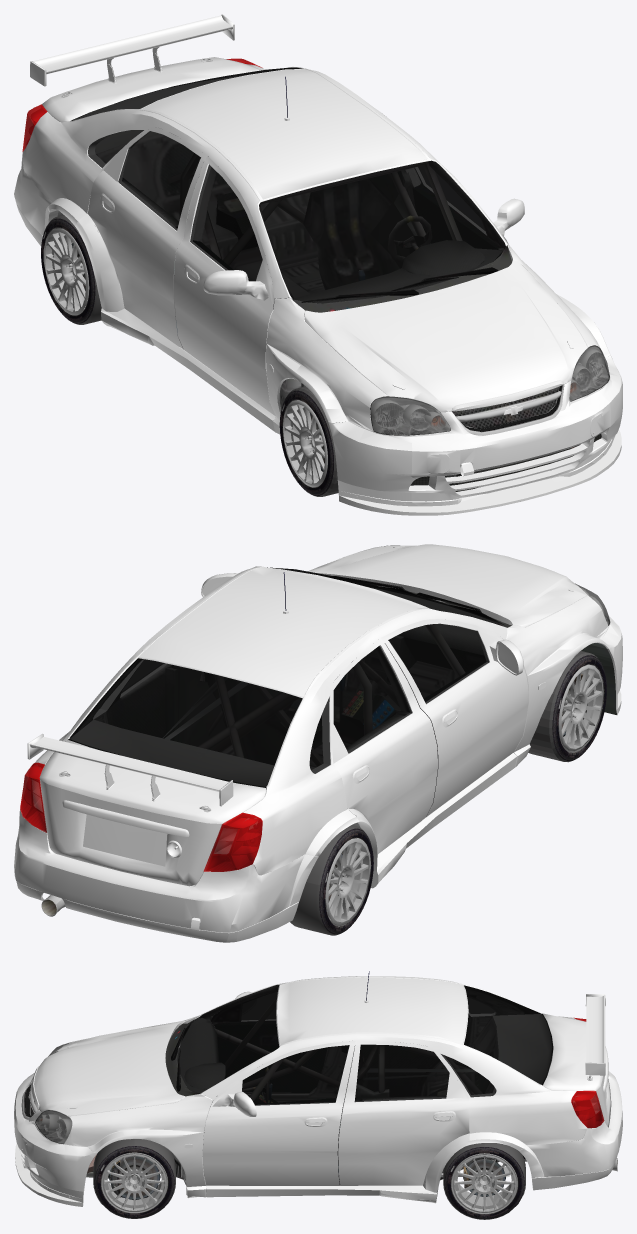
Rendered from lacetti_lod.glb.
3 renders of one model, top to bottom at view 1: azimuth 30°, elevation 25°; view 2: azimuth 150°, elevation 25°; view 3: azimuth 270°, elevation 25°, orthographic. The views are drawn at different scales.
Visible parts, largest first — view 1: obj85_Material6_0, obj89_Material4_0, obj91_Material 585_0, obj144_Material5_0, obj98_Material 593_0, obj86_Material7_0, obj157_Material14_0, obj152_Sidewall_0, obj105_Material11_0, obj107_chrome_0, obj153_Tread_0; view 2: obj85_Material6_0, obj89_Material4_0, obj91_Material 585_0, obj98_Material 593_0, obj144_Material5_0, obj156_Material8_0, obj86_Material7_0, obj153_Tread_0, obj152_Sidewall_0; view 3: obj85_Material6_0, obj89_Material4_0, obj91_Material 585_0, obj144_Material5_0, obj98_Material 593_0, obj152_Sidewall_0, obj86_Material7_0, obj153_Tread_0, obj105_Material11_0, obj157_Material14_0, obj156_Material8_0.
Boxes of the visible parts, x1,y1,x2,y2 form: obj85_Material6_0: [14, 14, 622, 515]; obj89_Material4_0: [72, 67, 505, 303]; obj91_Material 585_0: [96, 68, 505, 349]; obj144_Material5_0: [43, 228, 327, 487]; obj98_Material 593_0: [71, 76, 601, 491]; obj86_Material7_0: [25, 63, 609, 471]; obj157_Material14_0: [370, 345, 609, 435]; obj152_Sidewall_0: [41, 218, 333, 495]; obj105_Material11_0: [57, 211, 562, 466]; obj107_chrome_0: [61, 58, 564, 435]; obj153_Tread_0: [49, 215, 338, 496]; obj85_Material6_0: [14, 544, 622, 942]; obj89_Material4_0: [69, 567, 502, 786]; obj91_Material 585_0: [69, 588, 498, 816]; obj98_Material 593_0: [40, 576, 616, 915]; obj144_Material5_0: [325, 664, 603, 925]; obj156_Material8_0: [20, 762, 262, 871]; obj86_Material7_0: [20, 588, 609, 902]; obj153_Tread_0: [290, 651, 603, 935]; obj152_Sidewall_0: [319, 655, 606, 934]; obj85_Material6_0: [14, 976, 622, 1206]; obj89_Material4_0: [177, 985, 552, 1105]; obj91_Material 585_0: [178, 985, 540, 1184]; obj144_Material5_0: [101, 1152, 517, 1213]; obj98_Material 593_0: [23, 1013, 617, 1178]; obj152_Sidewall_0: [94, 1146, 524, 1219]; obj86_Material7_0: [35, 1020, 602, 1199]; obj153_Tread_0: [93, 1139, 525, 1219]; obj105_Material11_0: [25, 1016, 603, 1198]; obj157_Material14_0: [35, 1042, 71, 1144]; obj156_Material8_0: [571, 1017, 604, 1128].
Bounding box in the file's own units: 2.02 × 1.62 × 4.48.
Materials: 15 (7 with a texture image).
